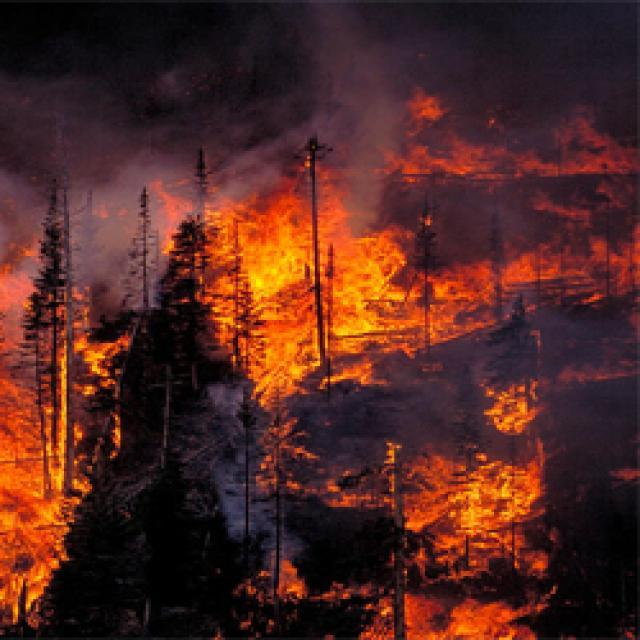Fire: (147, 163, 406, 394), (0, 224, 124, 632), (261, 419, 548, 581), (404, 229, 640, 351), (391, 82, 640, 176), (244, 575, 558, 640), (477, 373, 550, 433)
Smoke: (120, 0, 394, 159), (0, 46, 147, 227), (391, 0, 640, 83), (210, 384, 258, 546)
